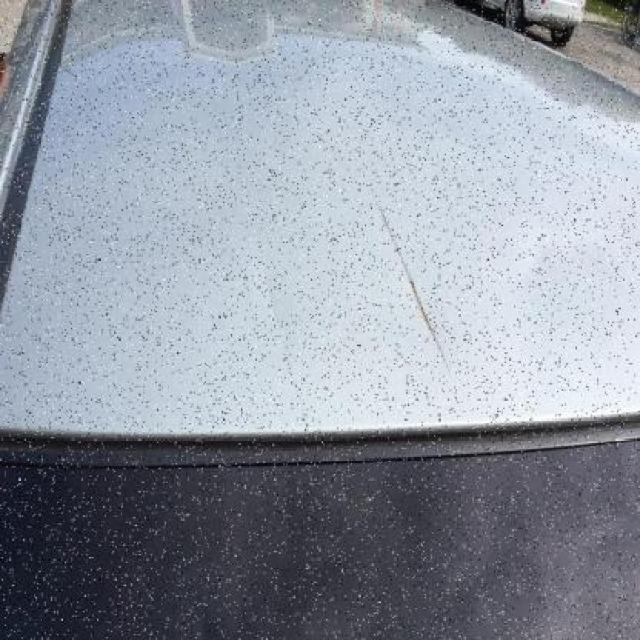roof-dent: (6, 0, 394, 639), (341, 0, 638, 638)
